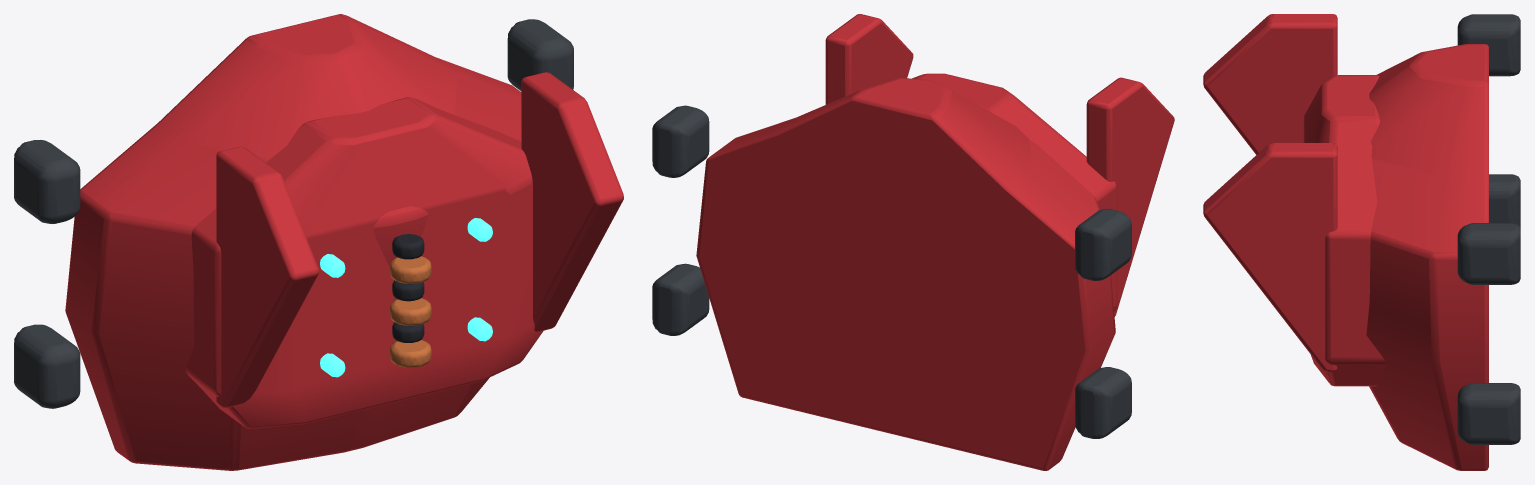
Rendered from ShoulderFront_Set06_Voltaic.fbx.
3 renders of one model, left to right at view 1: azimuth 30°, elevation 25°; view 2: azimuth 150°, elevation 25°; view 3: azimuth 270°, elevation 25°, orthographic. The views are drawn at different scales.
Visible parts, largest first — view 1: ShoulderFront_Set06_Voltaic; view 2: ShoulderFront_Set06_Voltaic; view 3: ShoulderFront_Set06_Voltaic.
Boxes of the visible parts, bbox=[...] form: ShoulderFront_Set06_Voltaic: bbox=[14, 14, 623, 470]; ShoulderFront_Set06_Voltaic: bbox=[652, 14, 1174, 470]; ShoulderFront_Set06_Voltaic: bbox=[1203, 14, 1520, 470].
Bounding box in the file's own units: 0.51 × 0.35 × 0.302.
